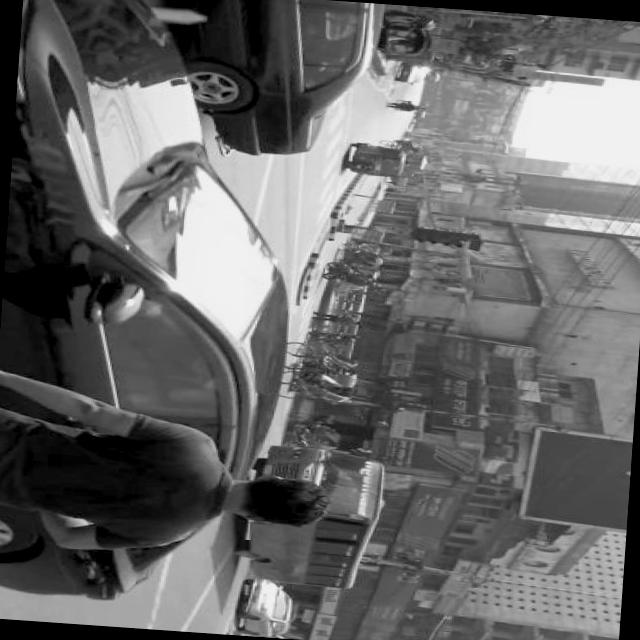bus: (241, 446, 387, 594)
car: (0, 0, 312, 613), (166, 0, 385, 164), (242, 580, 296, 638)
motorcycle: (284, 342, 361, 408), (383, 12, 434, 59), (344, 143, 406, 180), (308, 327, 362, 369), (286, 418, 340, 453), (336, 243, 386, 269), (323, 261, 354, 283)
